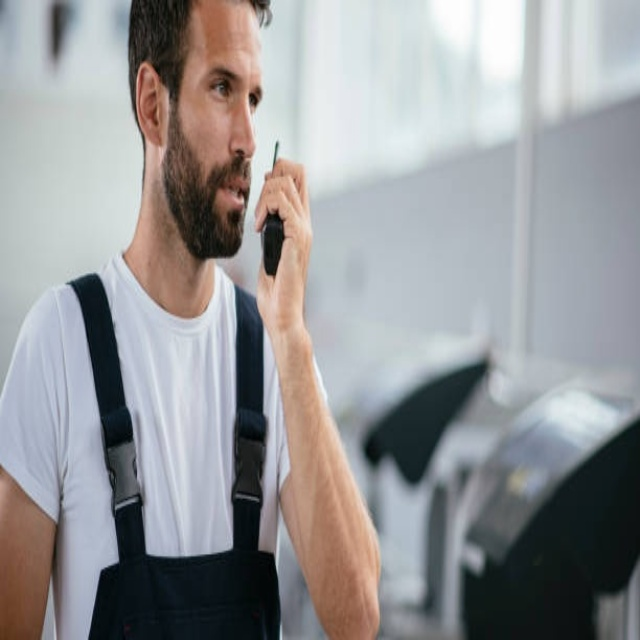Sin_gafas: (188, 61, 268, 115)
Sin_guantes: (254, 151, 319, 314)
Sin_mascara: (208, 167, 254, 229)
